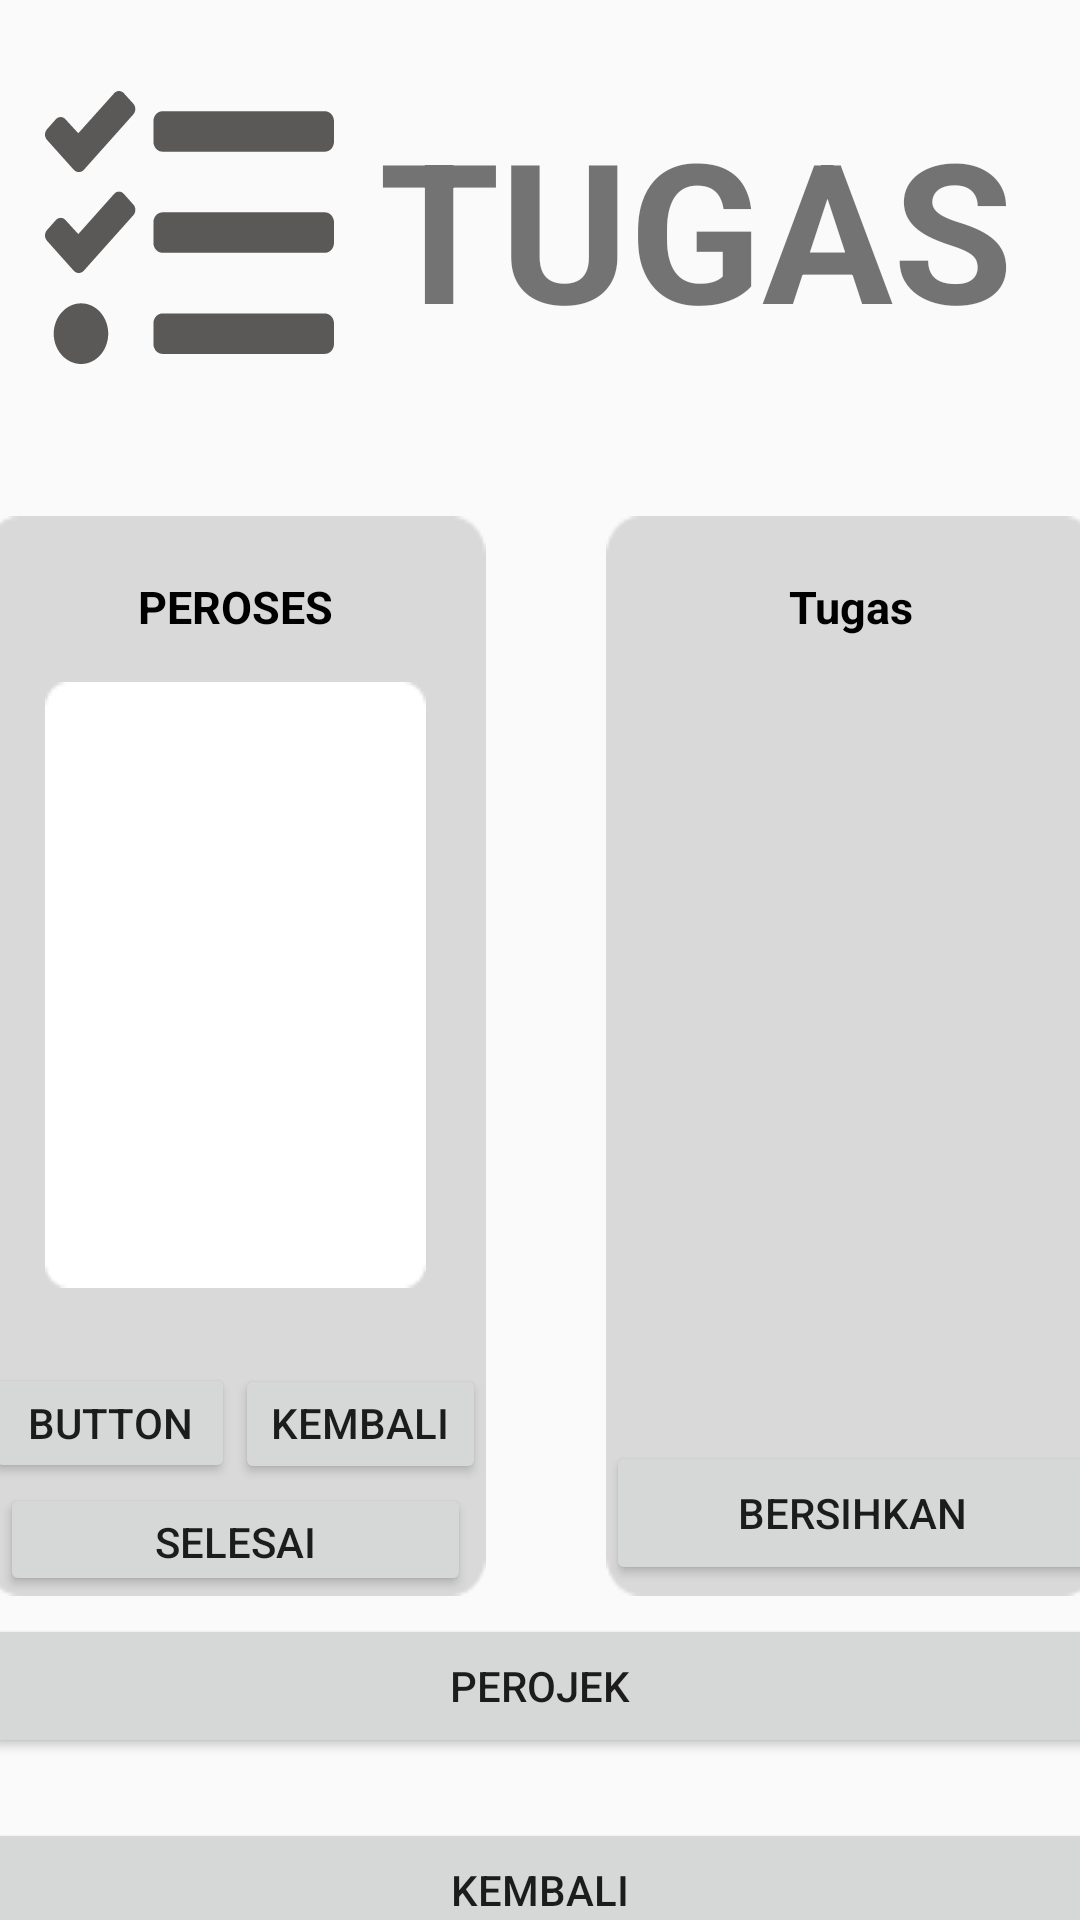

Named icons in this screenshot (1080px×1920px) and their centers, point (x, y):
task: point (189, 227)
